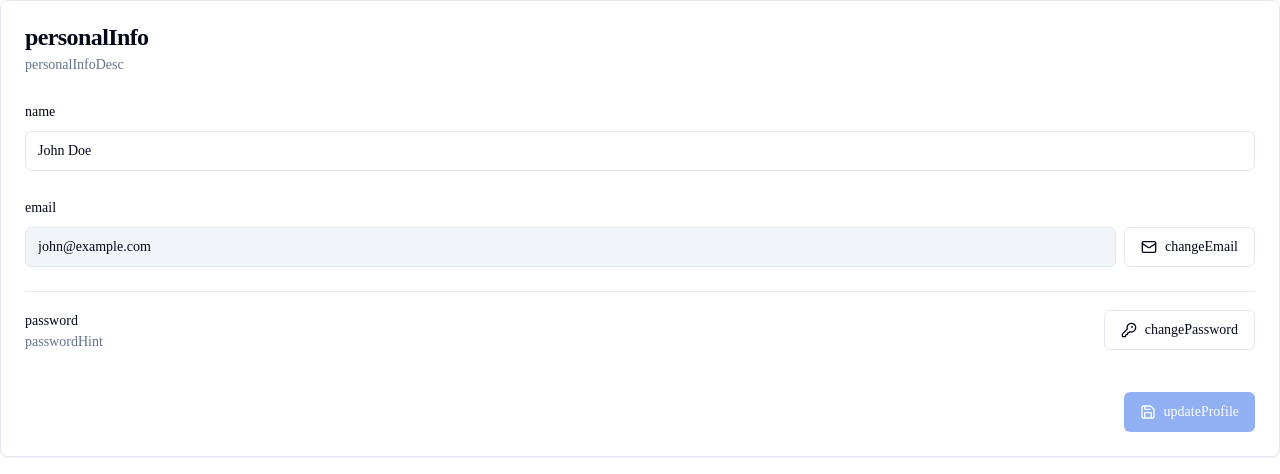
Test: ProfileForm › Name Update › should disable save button when name is reverted to original
Replace the text in the field labelled "name" with "Jane Doe" at (640, 151), box [25,131,1255,171]
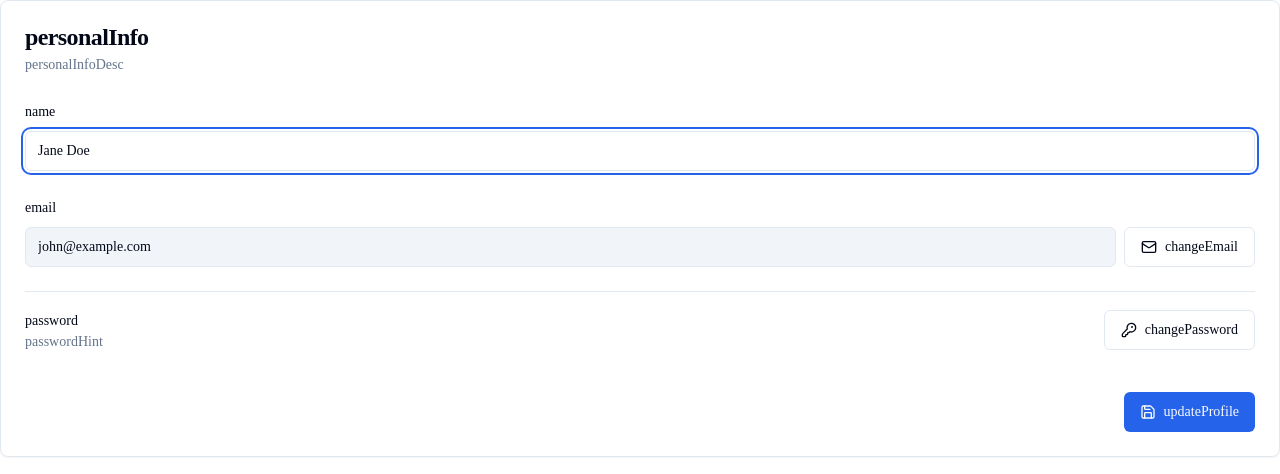
Check: the button "updateProfile" is enabled, box [1124,392,1255,432]
Replace the text in the field labelled "name" with "John Doe" at (640, 151), box [25,131,1255,171]
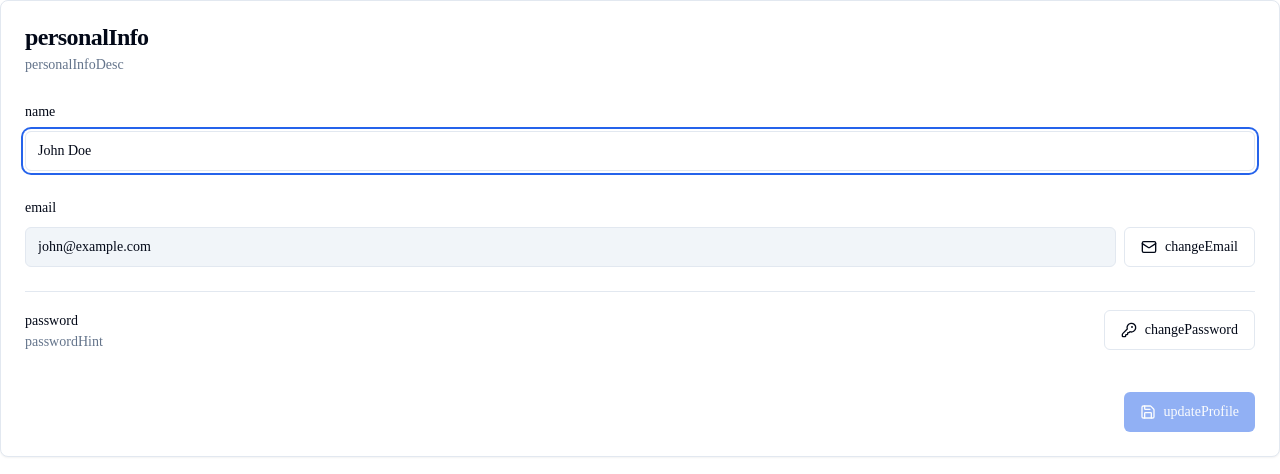
Check: the button "updateProfile" is disabled, box [1124,392,1255,432]
